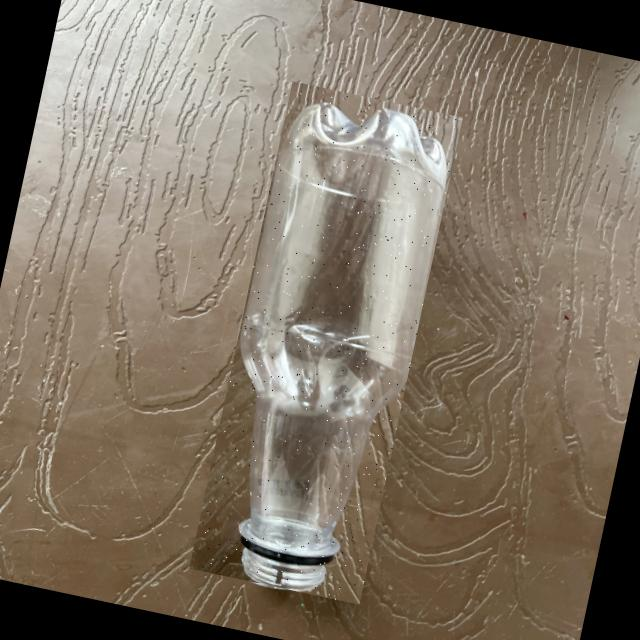PET_With_Cap: (188, 81, 462, 604)
